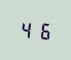four: (19, 19, 34, 39)
six: (35, 20, 50, 40)
